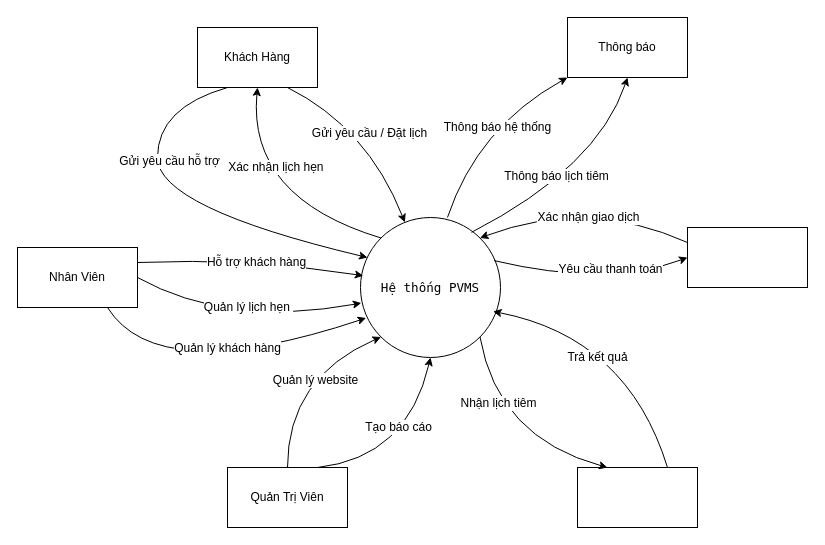
This 825x545 diagram has some shape labels left out. Each missing label, with the box of its shape:
Bác Sĩ: (576, 466, 698, 528)
Cổng thanh toán: (686, 226, 808, 288)
